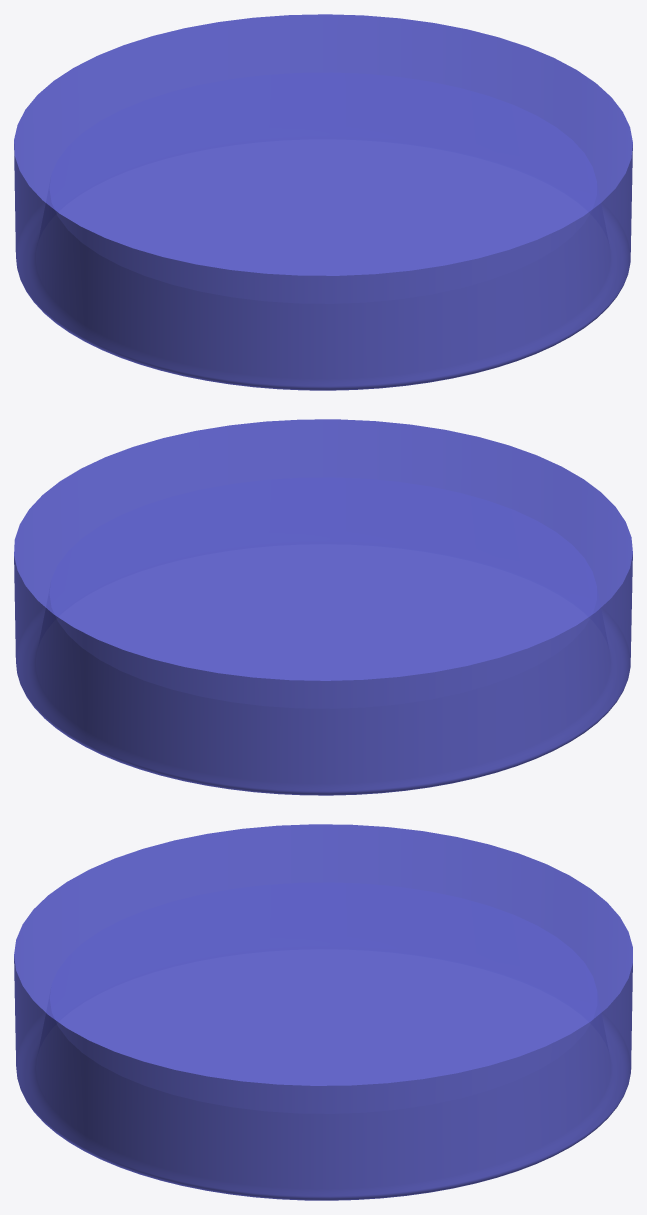
File: Insert 1.1875' Round (PL-1316RBT).fbx
The picture shows the model from 3 angles, top to bottom: view 1: azimuth 30°, elevation 25°; view 2: azimuth 150°, elevation 25°; view 3: azimuth 270°, elevation 25°; orthographic projection.
Visible parts, largest first — view 1: Insert 1.1875' Round (PL-1316RBT); view 2: Insert 1.1875' Round (PL-1316RBT); view 3: Insert 1.1875' Round (PL-1316RBT).
Boxes of the visible parts, x1=… form: Insert 1.1875' Round (PL-1316RBT): x1=14, y1=14, x2=632, y2=390; Insert 1.1875' Round (PL-1316RBT): x1=14, y1=419, x2=632, y2=795; Insert 1.1875' Round (PL-1316RBT): x1=14, y1=824, x2=632, y2=1200.
Bounding box in the file's own units: 3.01 × 0.635 × 3.01.
